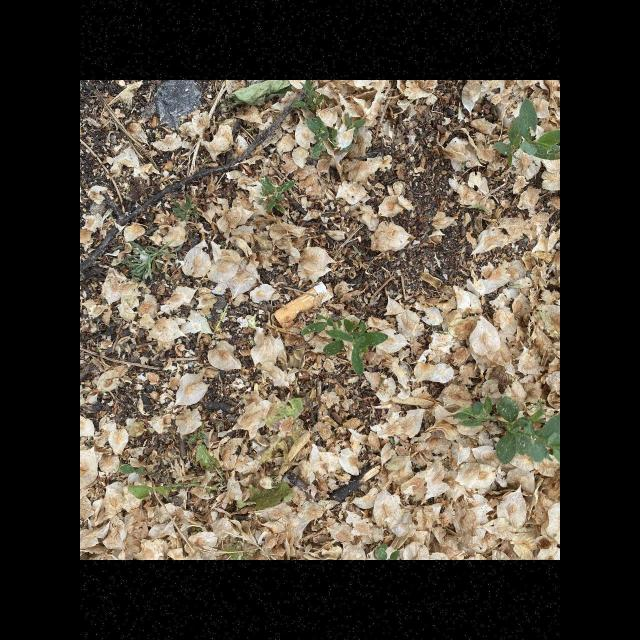cigarette: (273, 281, 334, 328)
